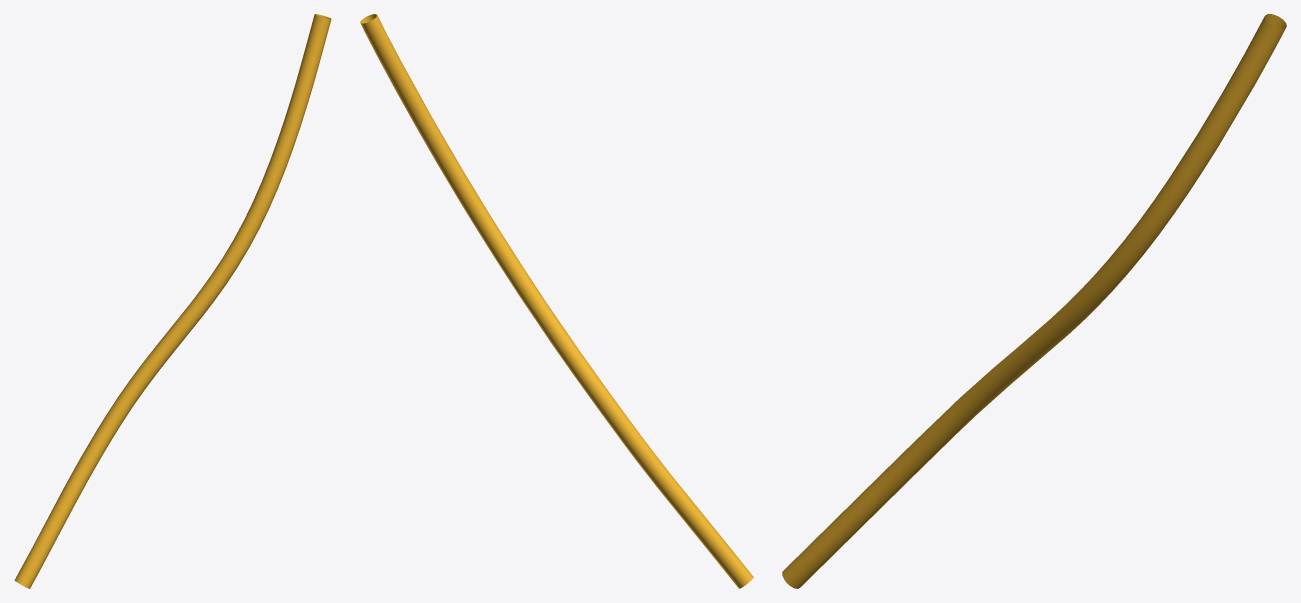
Rendered from nervoso-muscular-branches-of-deep-fibular-nerve-r.glb.
The picture shows the model from 3 angles, left to right: view 1: azimuth 30°, elevation 25°; view 2: azimuth 150°, elevation 25°; view 3: azimuth 330°, elevation 25°; orthographic projection. The views are drawn at different scales.
Parts seen in each view (by area): view 1: Muscular branches of deep fibular nerve.r; view 2: Muscular branches of deep fibular nerve.r; view 3: Muscular branches of deep fibular nerve.r.
Boxes of the visible parts, bbox=[...] form: Muscular branches of deep fibular nerve.r: bbox=[14, 14, 331, 588]; Muscular branches of deep fibular nerve.r: bbox=[360, 14, 753, 588]; Muscular branches of deep fibular nerve.r: bbox=[782, 14, 1286, 588].
Size of the model in its own units: 0.0221 by 0.0296 by 0.00396.
